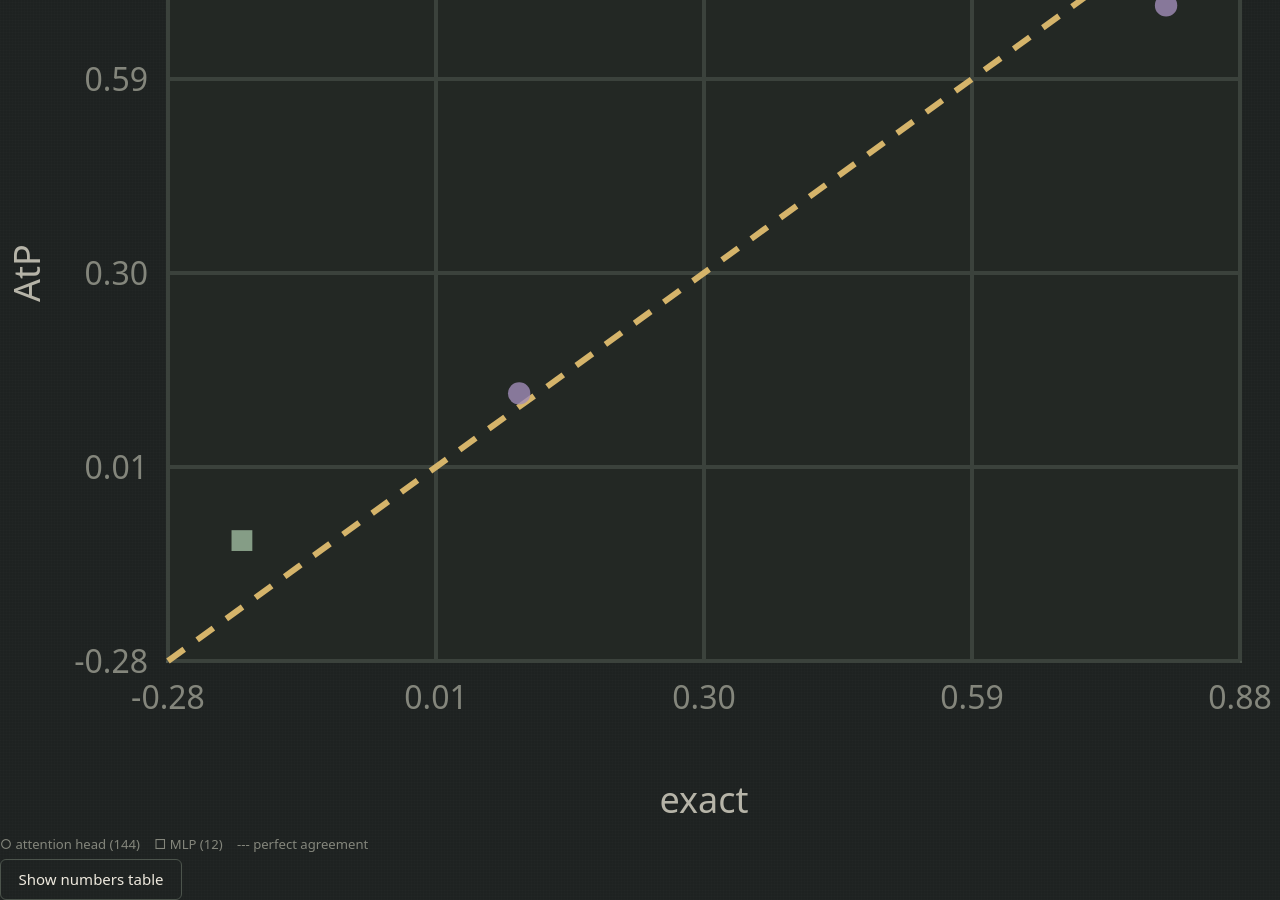
Scenario: AgreementScatter › toggles an accessible numbers table
(page scrolled)
Click the button "Show numbers table" at (91, 880), box [0,859,182,899]
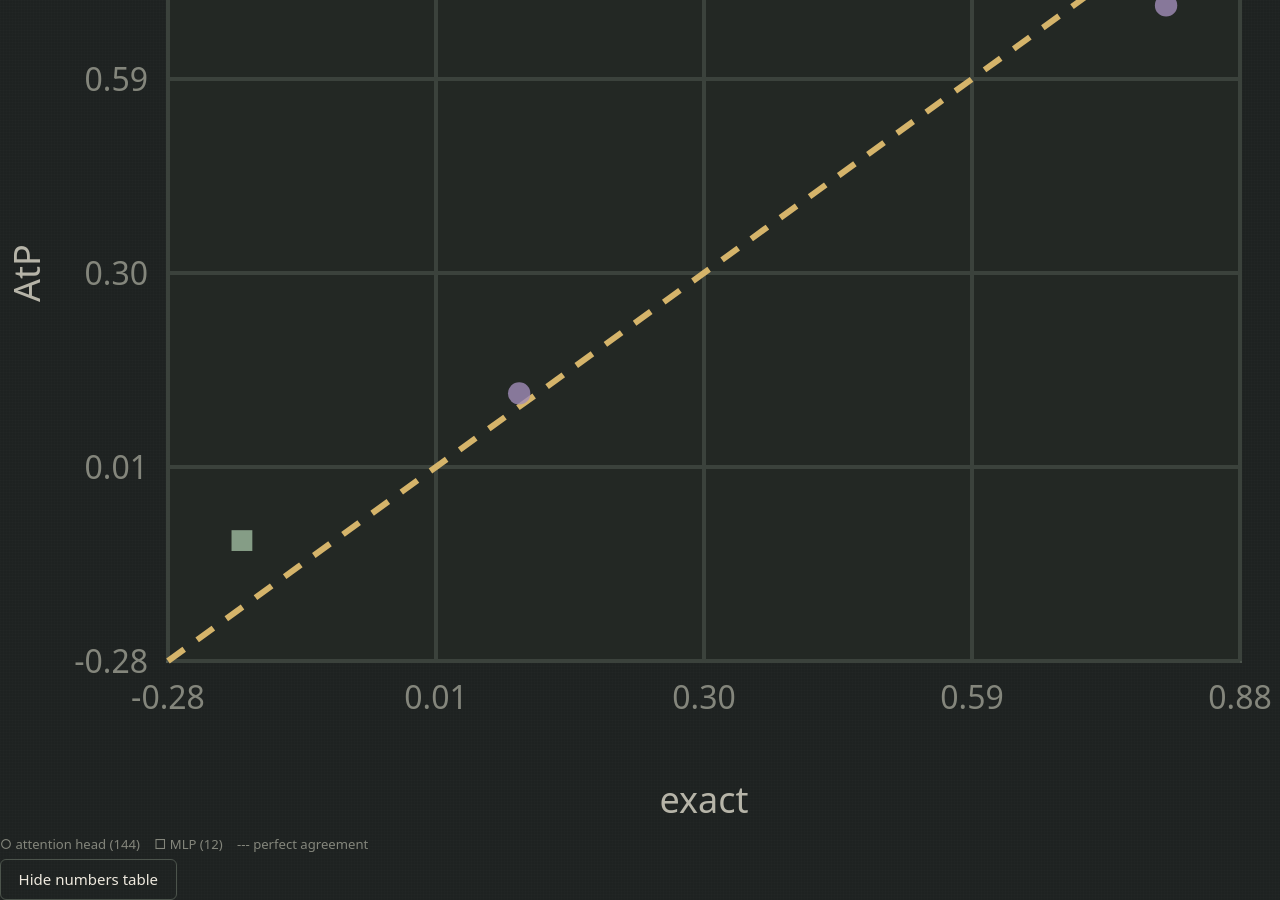
expect the button "Hide numbers table" is expanded: met, box [0,859,177,899]
